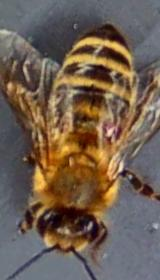varroa_mite: (98, 115, 123, 145)
